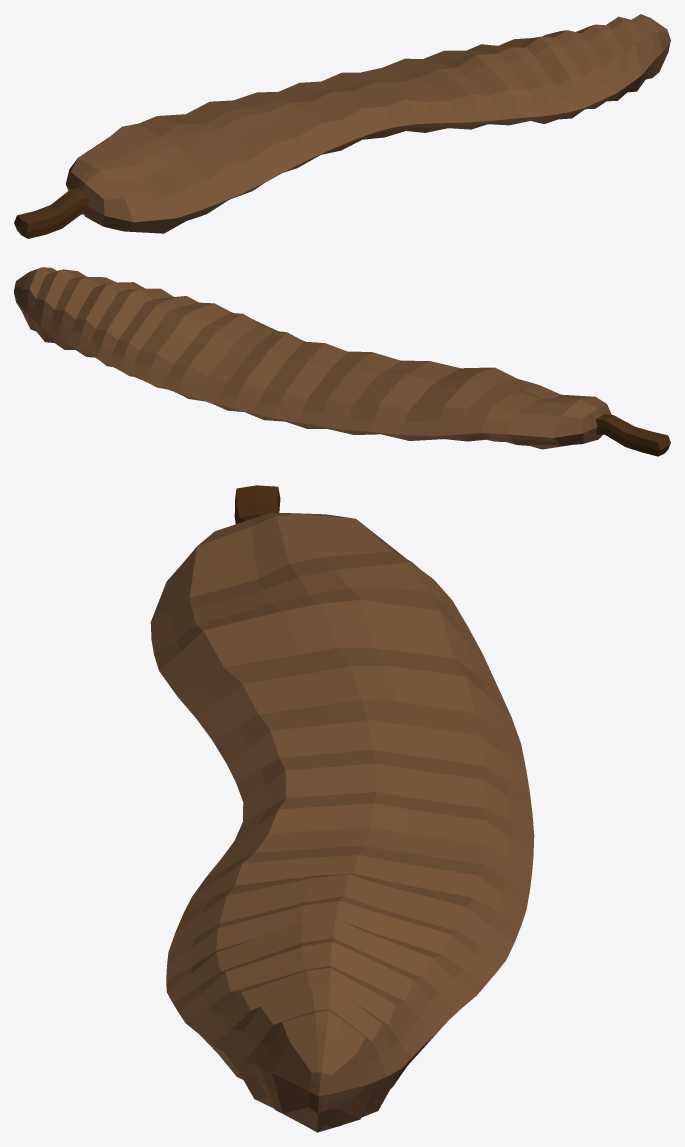
The model's file is jucá.fbx.
3 views of the same model, one above another, from view 1: azimuth 30°, elevation 25°; view 2: azimuth 150°, elevation 25°; view 3: azimuth 270°, elevation 25° (orthographic). The views are drawn at different scales.
Parts seen in each view (by area): view 1: Plano; view 2: Plano; view 3: Plano.
Part boxes in pixels (x1,y1,x2,y2): Plano: (14,14,670,238); Plano: (14,267,670,456); Plano: (150,485,534,1132).
Size of the model in its own units: 667 by 73.22 by 174.
